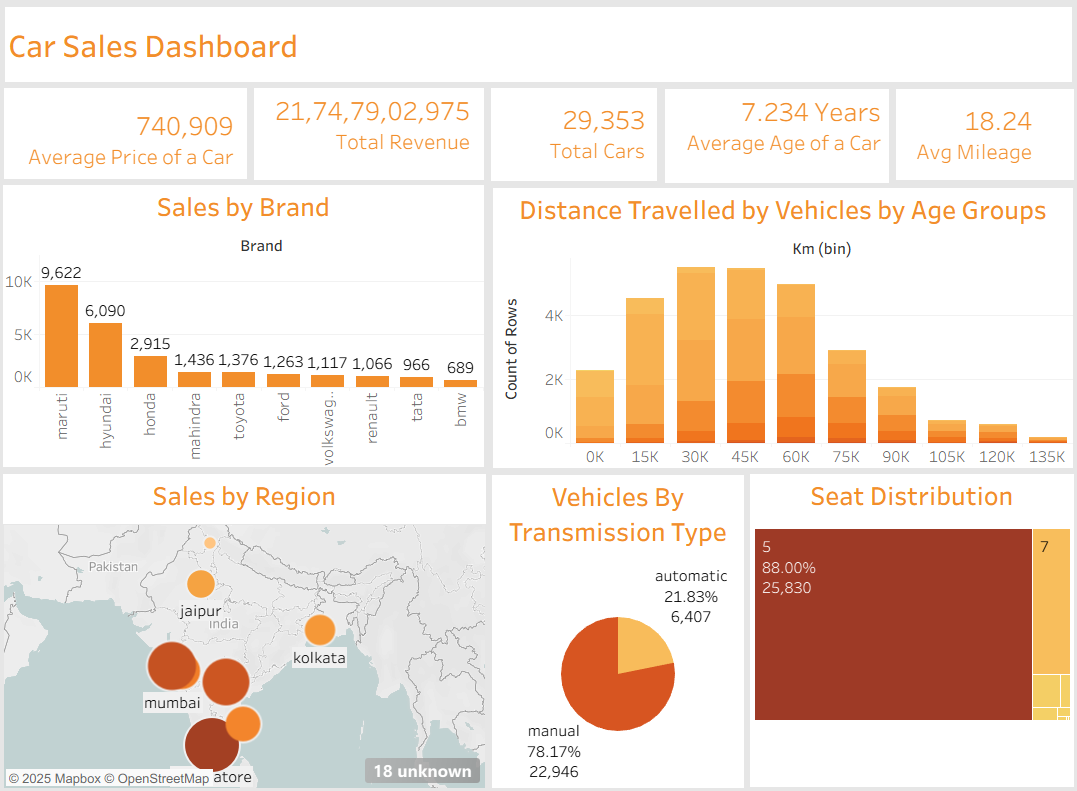

The page's visual inventory and layout, read from the dashboard file:
{"tool":"tableau","page":{"name":"Dashboard 2","canvas":[1000,1000],"units":"permille","ordinal":0},"visuals":[{"type":"text","box":[4.6,10,988,93.5]},{"type":"worksheet","title":"Average Price KPI","mark":"Automatic","box":[3.7,111,225,113.5]},{"type":"worksheet","title":"Total Sales KPI","mark":"Automatic","box":[235.2,111,213,114.7]},{"type":"worksheet","title":"Total Cars Kpi","mark":"Automatic","box":[454.6,111,153.7,116]},{"type":"worksheet","title":"Average Age of Vehicle","mark":"Automatic","box":[615.7,112.2,207.4,117.2]},{"type":"worksheet","title":"Average Mileage","mark":"Automatic","box":[829.6,112.2,164.8,113.5]},{"type":"worksheet","title":"Sales By Brand","mark":"Automatic","rows":["Rows"],"cols":["brand"],"box":[2.8,231.9,445.4,351.6]},{"type":"worksheet","title":"Distance Travelled","mark":"Automatic","rows":["Rows"],"cols":["Km (bin)"],"box":[456.5,235.7,537,349.1]},{"type":"worksheet","title":"Sales by Region","mark":"Automatic","box":[2.8,592.3,447.2,392.8]},{"type":"worksheet","title":"Seat Distrubution","mark":"Automatic","box":[694.4,592.3,300,390.3]},{"type":"worksheet","title":"Vehicle by Transmisson","mark":"Pie","box":[455.6,593.5,233.3,390.3]}]}

Visuals, with their boxes on the dashboard's canvas, which has no fixed pixel size, in thousandths of its width and height (x1, y1, x2, y2). These are canvas units, not pixel positions in the 1077x791 screenshot, which may show the page scaled, cropped or inside an application window:
text: left=5, top=10, right=993, bottom=104
"Average Price KPI" worksheet: left=4, top=111, right=229, bottom=224
"Total Sales KPI" worksheet: left=235, top=111, right=448, bottom=226
"Total Cars Kpi" worksheet: left=455, top=111, right=608, bottom=227
"Average Age of Vehicle" worksheet: left=616, top=112, right=823, bottom=229
"Average Mileage" worksheet: left=830, top=112, right=994, bottom=226
"Sales By Brand" worksheet: left=3, top=232, right=448, bottom=584
"Distance Travelled" worksheet: left=456, top=236, right=994, bottom=585
"Sales by Region" worksheet: left=3, top=592, right=450, bottom=985
"Seat Distrubution" worksheet: left=694, top=592, right=994, bottom=983
"Vehicle by Transmisson" worksheet (Pie marks): left=456, top=594, right=689, bottom=984
